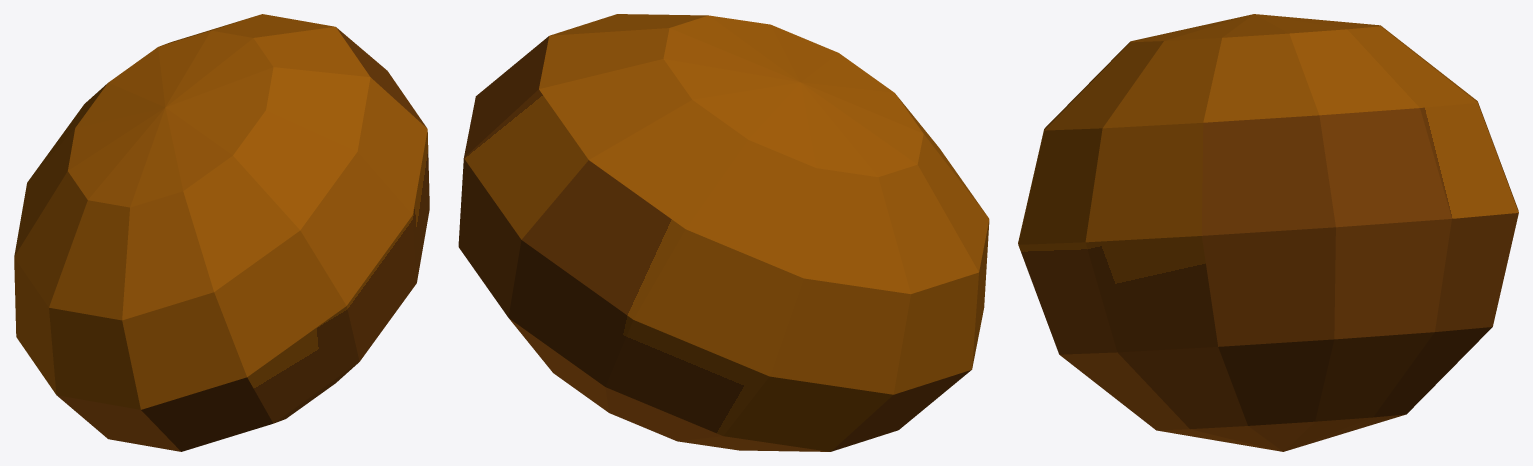
Rendered from cropressed_potato.obj.
3 views of the same model, side by side, from view 1: azimuth 30°, elevation 25°; view 2: azimuth 150°, elevation 25°; view 3: azimuth 270°, elevation 25° (orthographic). The views are drawn at different scales.
Visible parts, largest first — view 1: sphere; view 2: sphere; view 3: sphere.
Boxes of the visible parts, bbox=[...] form: sphere: bbox=[14, 14, 429, 451]; sphere: bbox=[458, 14, 989, 451]; sphere: bbox=[1018, 14, 1518, 451].
Size of the model in its own units: 0.9059 by 0.7744 by 0.8058.
